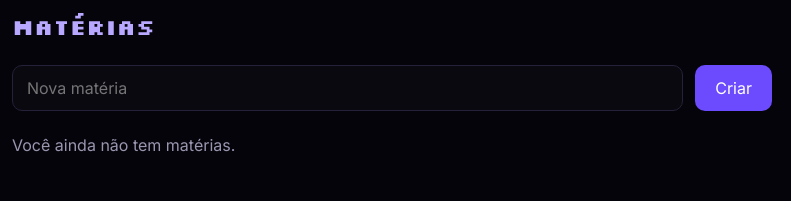
Test: SubjectsPage › mostra a mensagem do backend quando a criação falha
Expected: the text "Você ainda não tem matérias." is shown, [12,135,235,155]
Type "x" into the field labelled "Nova matéria" at (348, 88), box [12,65,683,111]
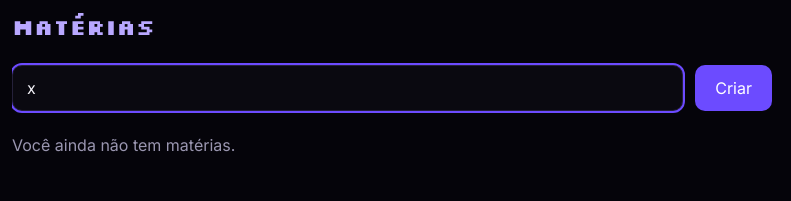
Click the button "Criar" at (734, 88), box [695,65,772,111]
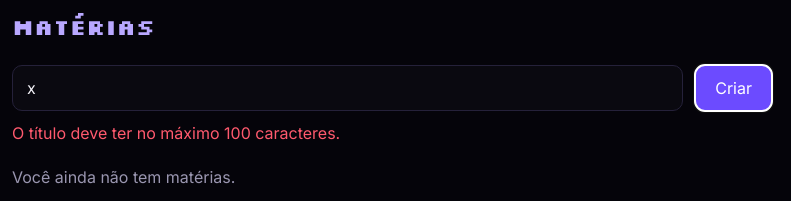
Now the message reads "O título deve ter no máximo 100 caracteres.", box [12,123,340,143]
